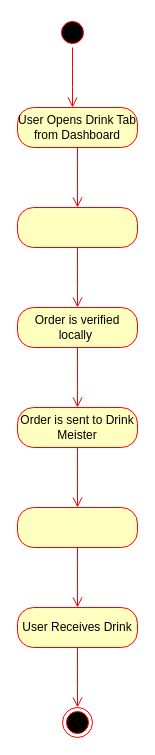
Image size: 155x755. Some labels were removed from this diagram. The shapes that lost their labels are listed below. From the top down, each one's centre as x and y in pixels, then its label:
At (77,227): "User Selects Drink".
At (77,527): "Drink Meister Approves Order".
